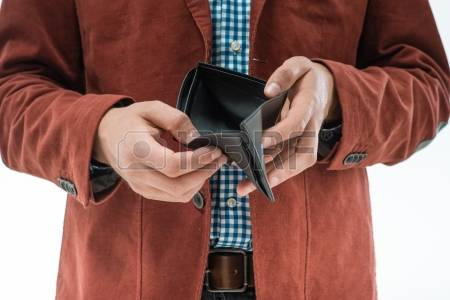monedero: (175, 59, 280, 205)
